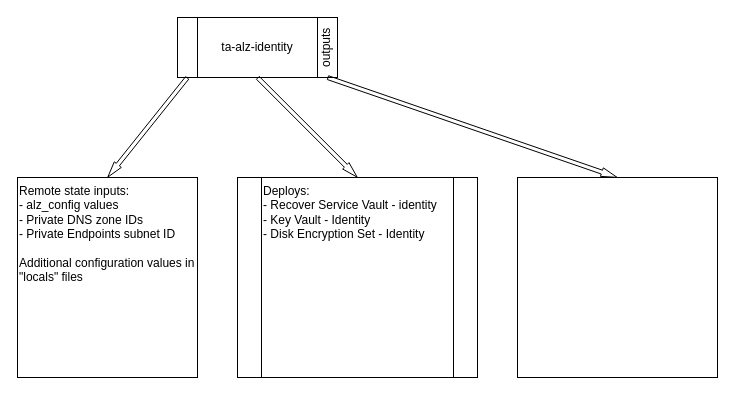
Image size: 735x395. Some labels were removed from this diagram. The box of each missing label's shape, as (x1, y1, x2, y2) in pixels:
Outputs:: (516, 176, 718, 378)
variables: (176, 16, 198, 78)
